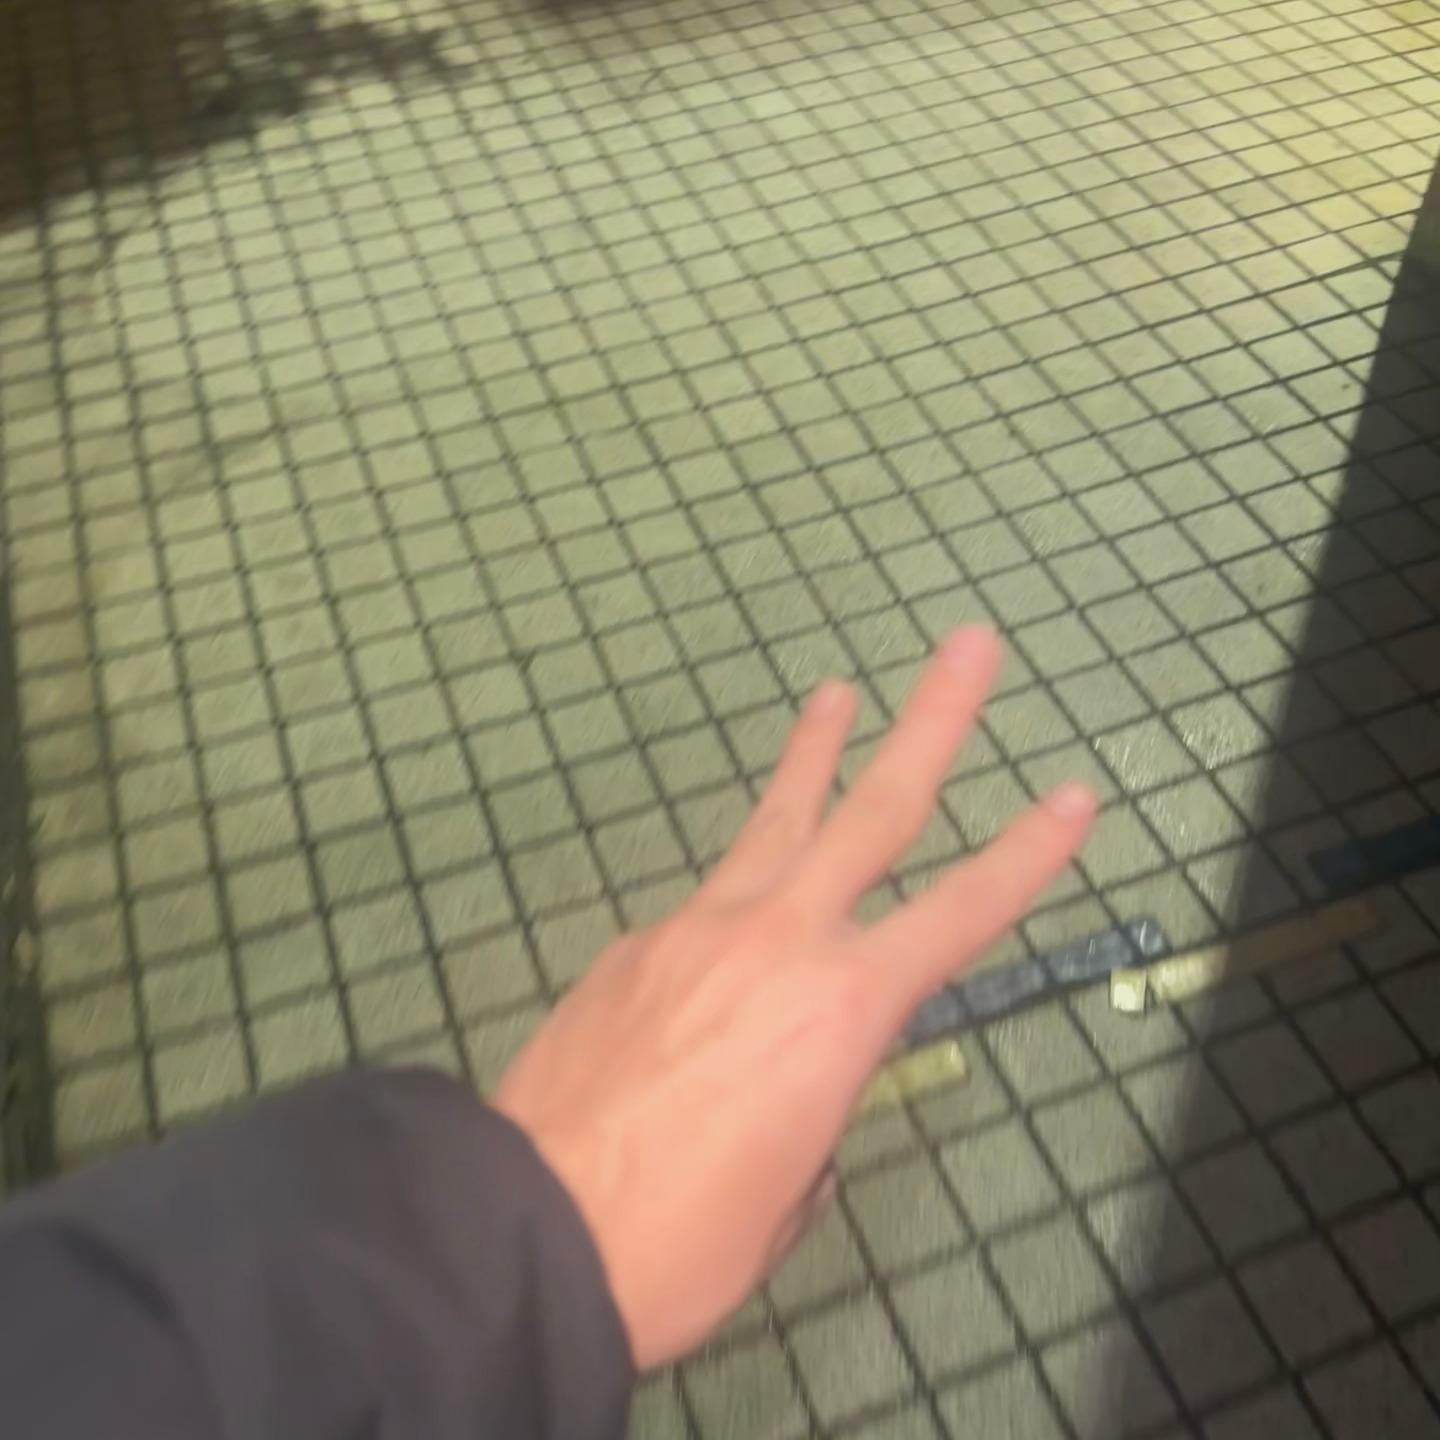without_gloves: (505, 633, 1095, 1242)
